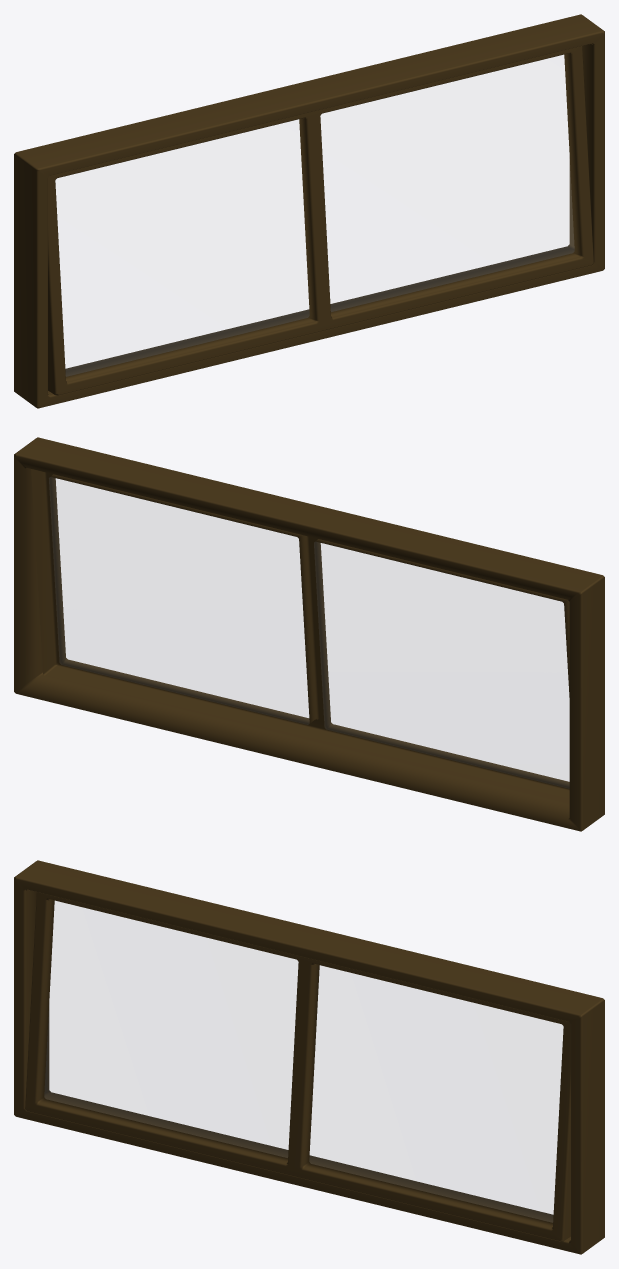
Rendered from SeanElstonWindowTexelSet.fbx.
3 views of the same model, one above another, from view 1: azimuth 30°, elevation 25°; view 2: azimuth 150°, elevation 25°; view 3: azimuth 330°, elevation 25° (orthographic).
Visible parts, largest first — view 1: Window; view 2: Window; view 3: Window.
Boxes of the visible parts, x1,y1,x2,y2 form: Window: [14, 14, 604, 408]; Window: [14, 437, 604, 831]; Window: [14, 860, 604, 1254].
Bounding box in the file's own units: 163 × 65.71 × 14.04.
